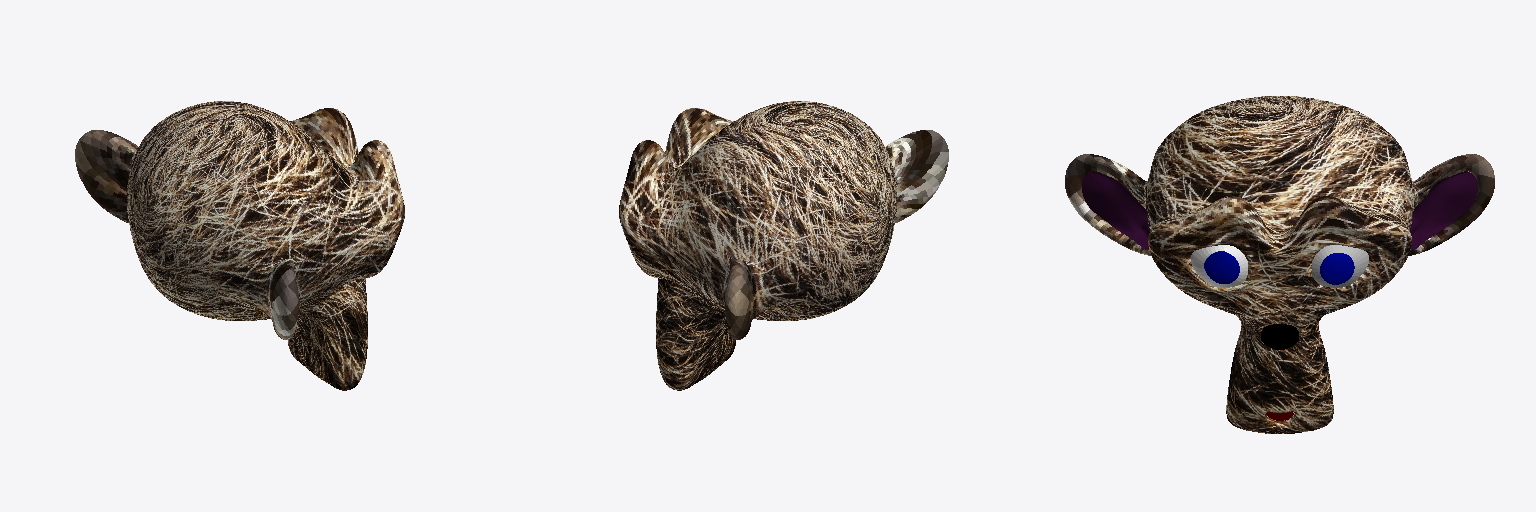
The picture shows the model from 3 angles: view 1: azimuth 30°, elevation 25°; view 2: azimuth 150°, elevation 25°; view 3: azimuth 270°, elevation 25°; orthographic projection.
Visible parts, largest first — view 1: Monkey; view 2: Monkey; view 3: Monkey, oreilleGauche_Monkey.008, oreilleDroite_Monkey.007, oeilGauche_Monkey.002, oeilDroit_Monkey.001, pupilleDroit_Monkey.005, pupilleGauche_Monkey.004, nez_Monkey.003.
Part boxes in pixels (x1,y1,x2,y2): Monkey: (75,101,404,390); Monkey: (619,101,948,390); Monkey: (1065,96,1494,433); oreilleGauche_Monkey.008: (1082,171,1149,249); oreilleDroite_Monkey.007: (1410,171,1477,249); oeilGauche_Monkey.002: (1312,245,1368,287); oeilDroit_Monkey.001: (1191,245,1247,287); pupilleDroit_Monkey.005: (1204,251,1239,283); pupilleGauche_Monkey.004: (1320,253,1354,284); nez_Monkey.003: (1261,324,1298,349).
Bounding box in the file's own units: 8.79 × 10.48 × 14.56.
Materials: 9 (1 with a texture image).